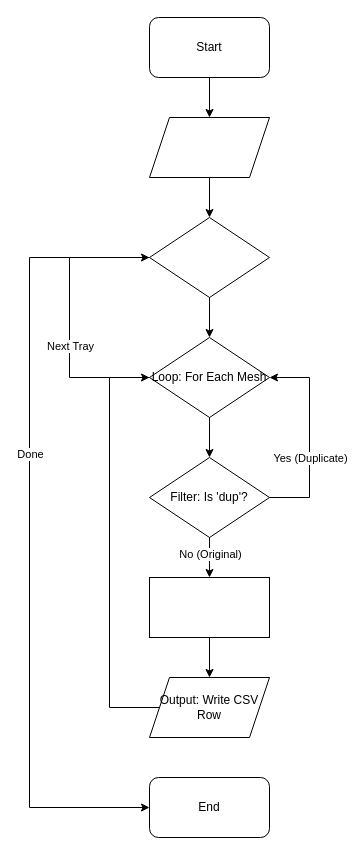
This 364x855 diagram has some shape labels left out. Here are the shapes that lost their labels. From the top down, the box of each, then its label:
(148, 116, 270, 178): Input: Select Export Folder
(148, 216, 270, 298): Loop: For Each Tray
(148, 576, 270, 638): Logic: Calc Volumes (Part, BBox, Support)
